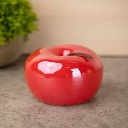apple: (24, 45, 104, 106)
